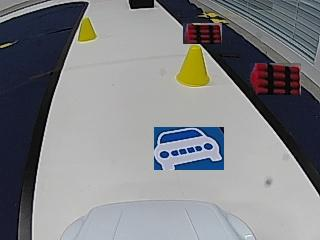block: (129, 0, 154, 9)
cone: (177, 47, 210, 87), (78, 19, 97, 41)
